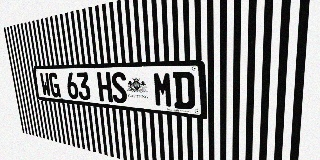3: (76, 72, 91, 100)
6: (65, 72, 79, 99)
D: (173, 72, 195, 110)
G: (48, 73, 61, 98)
H: (97, 72, 113, 102)
M: (153, 72, 173, 108)
S: (110, 72, 128, 104)
W: (39, 73, 52, 97)
